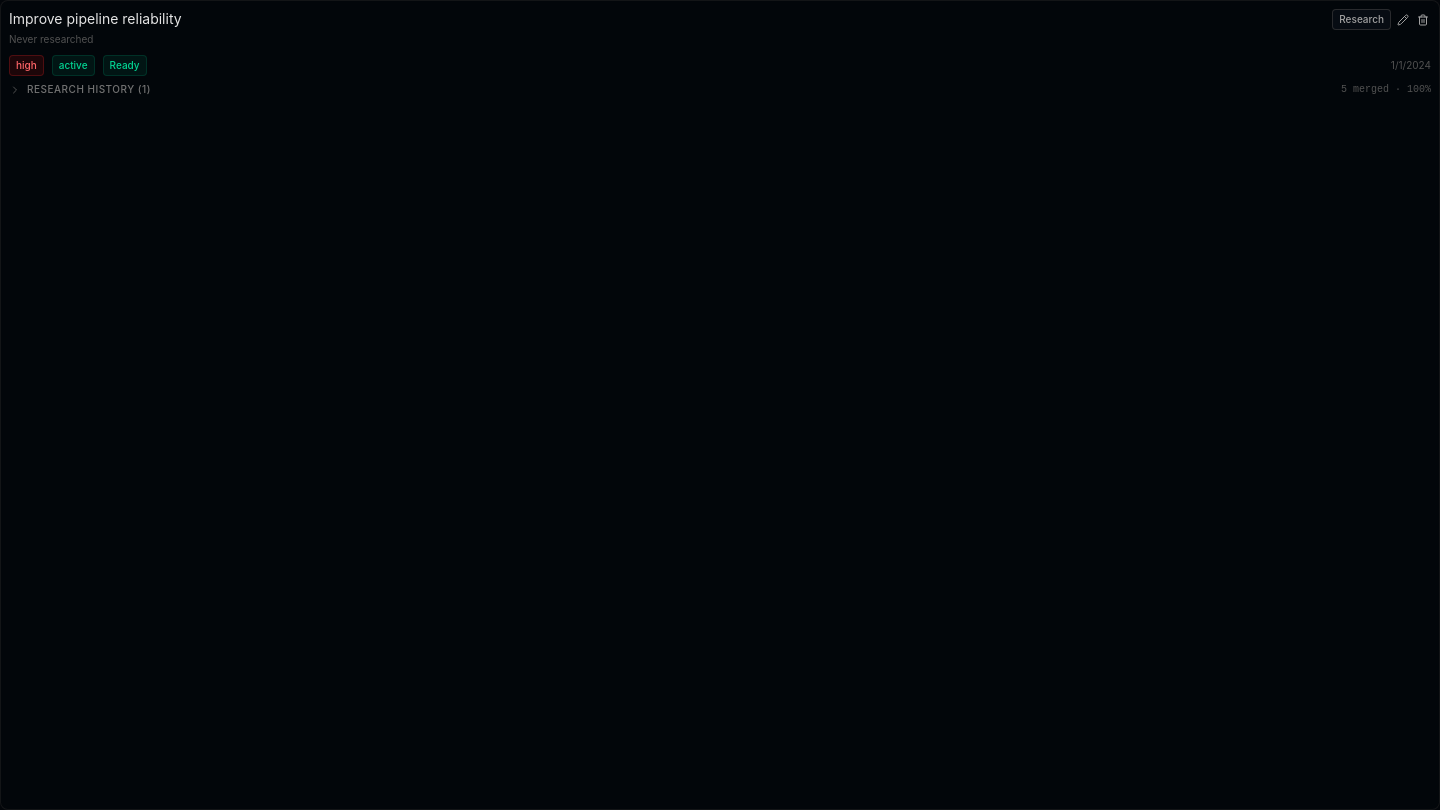
DirectionCard autonomous/assisted merge split › falls back to legacy PRs shipped badge when attribution fields absent
Click the button "Research History (1) 5 merged · 100%".
click(85, 89)  # box [9,82,1431,97]
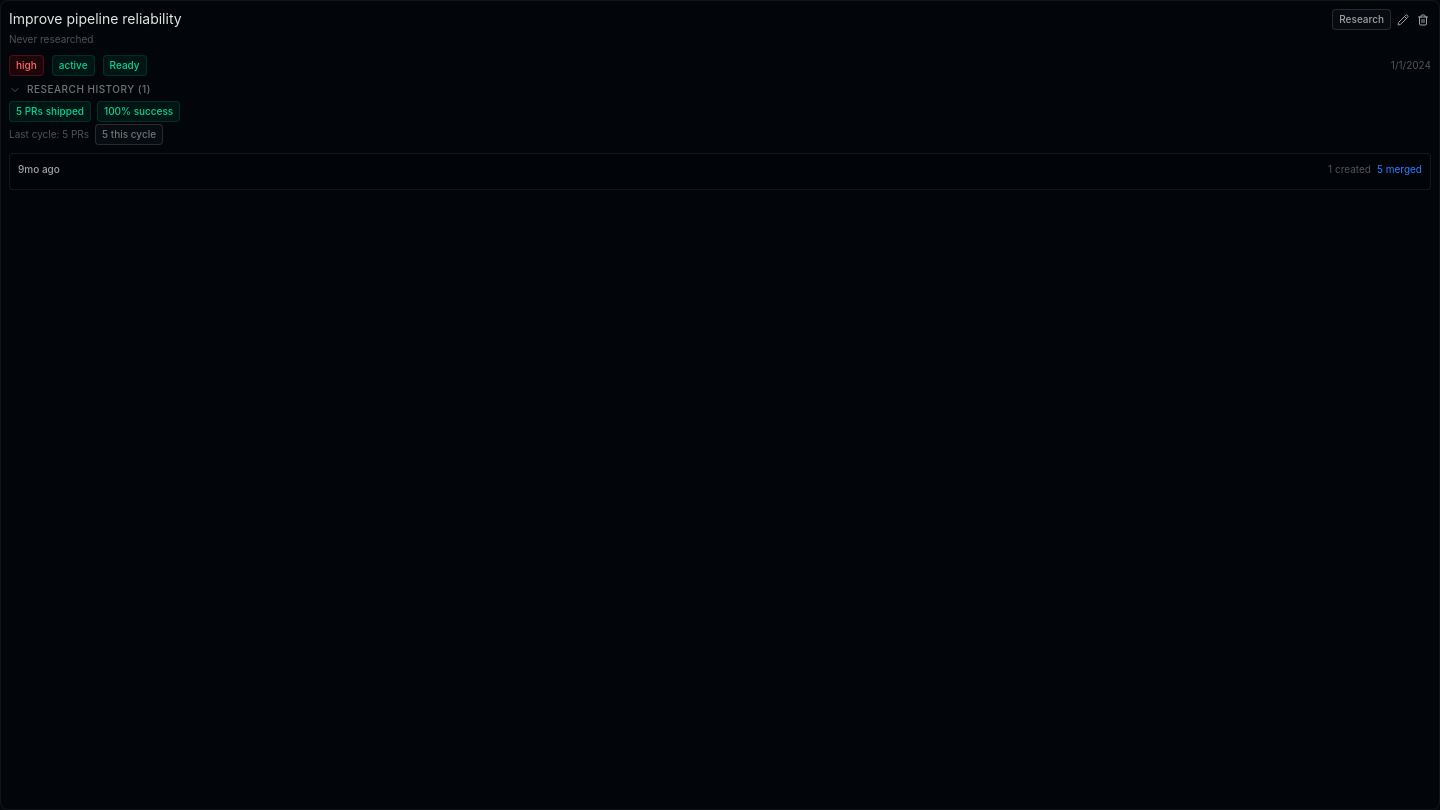
Expected: the text "5 PRs shipped" is shown, [9,101,91,122]
